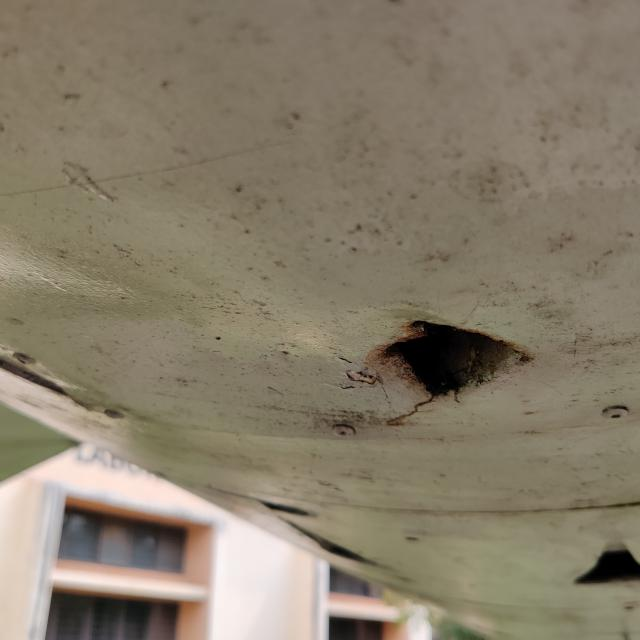crack: (361, 301, 546, 435)
